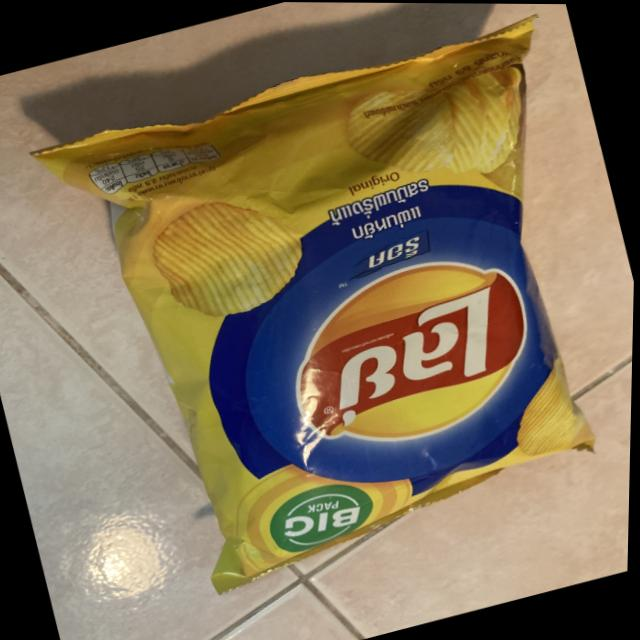LayYellow: (55, 0, 640, 629)
